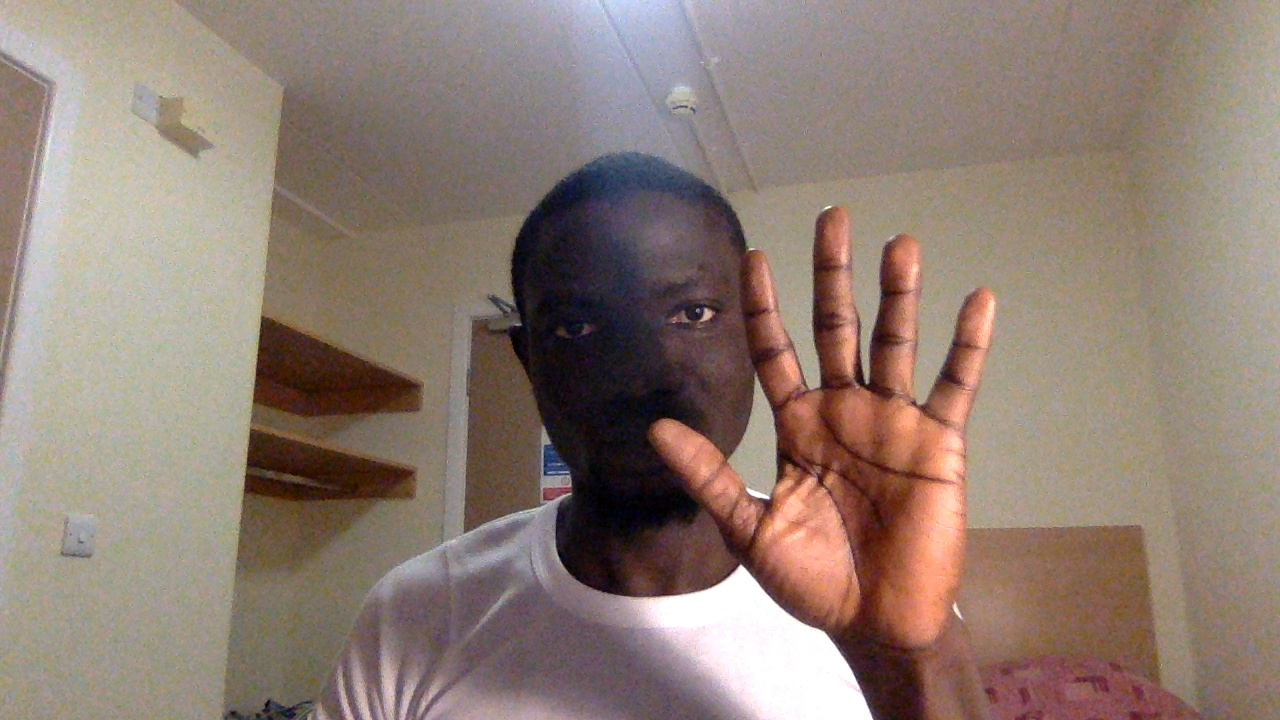Hello: (642, 196, 1029, 667)
